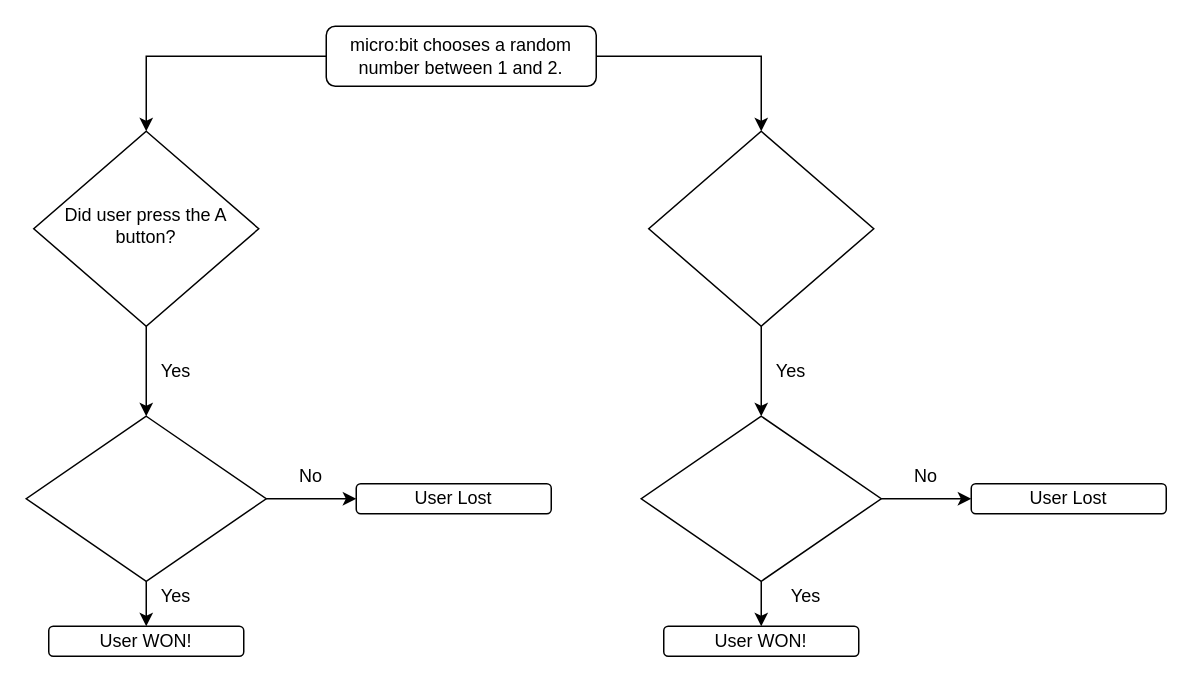
The diagram is 1193 pixels wide and 683 high, and some of its shapes have lost their labels. Each missing label, with the centre of its shape:
Did micro:bit choose random number 1?: (x=145, y=498)
Did micro:bit choose random number 2?: (x=760, y=498)
Did user press the B button?: (x=760, y=228)
